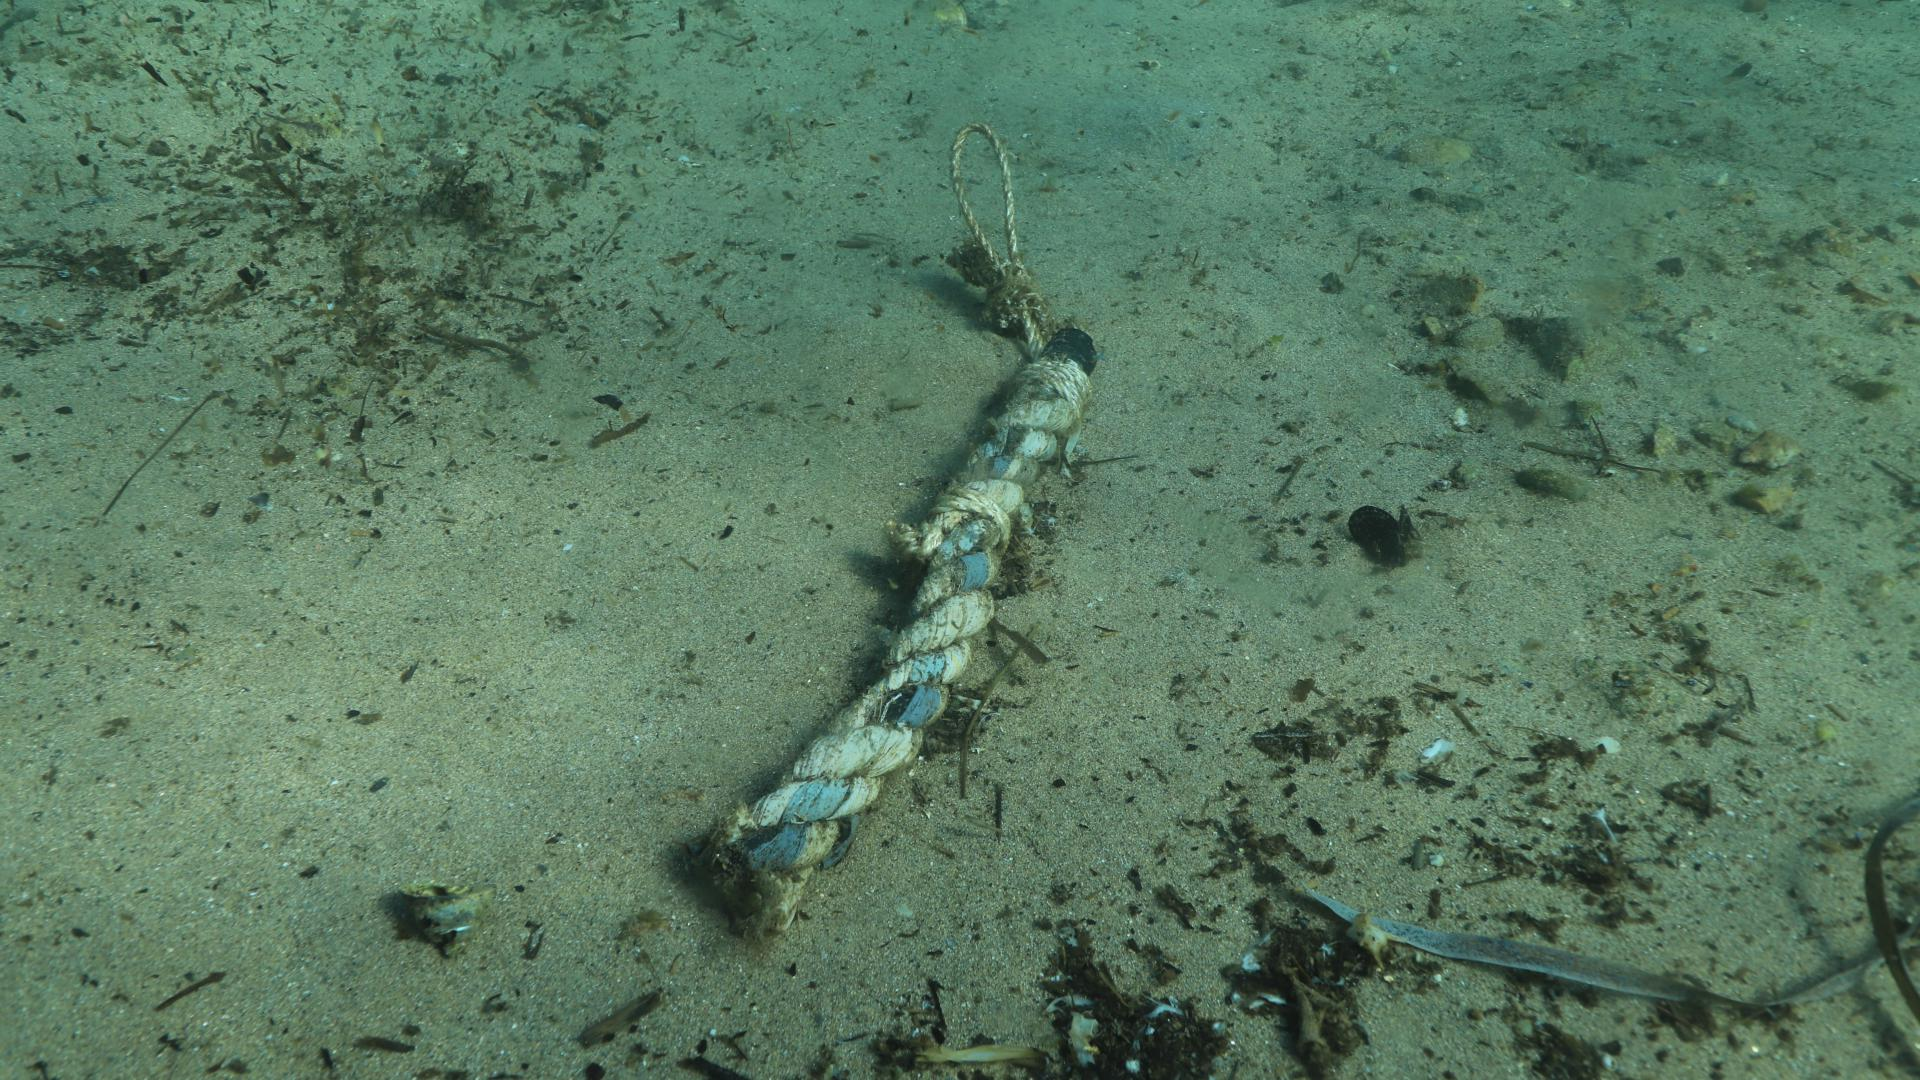bundle of ropes: (705, 324, 1098, 948), (945, 119, 1055, 348)
